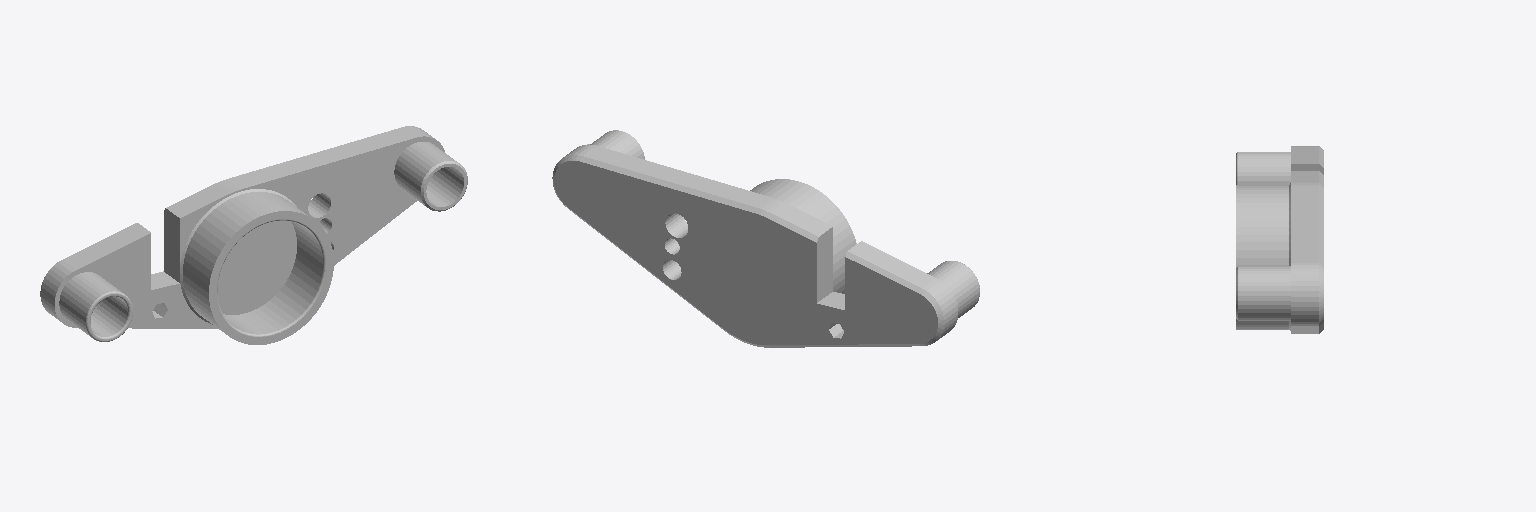
Rendered from ARMATURETESTCOMPONENT.OBJ.
3 views of the same model, side by side, from view 1: azimuth 30°, elevation 25°; view 2: azimuth 150°, elevation 25°; view 3: azimuth 270°, elevation 25° (orthographic).
Size of the model in its own units: 207 by 74.55 by 40.